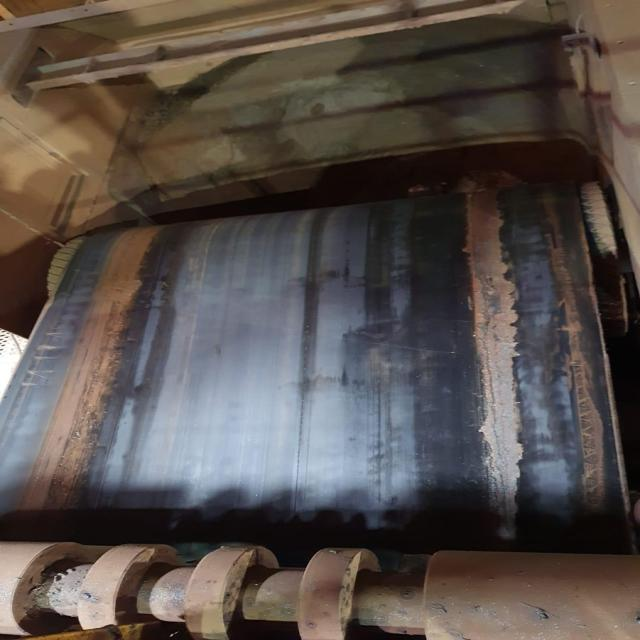Wear: (5, 224, 174, 516), (529, 187, 615, 531), (456, 184, 528, 531)
